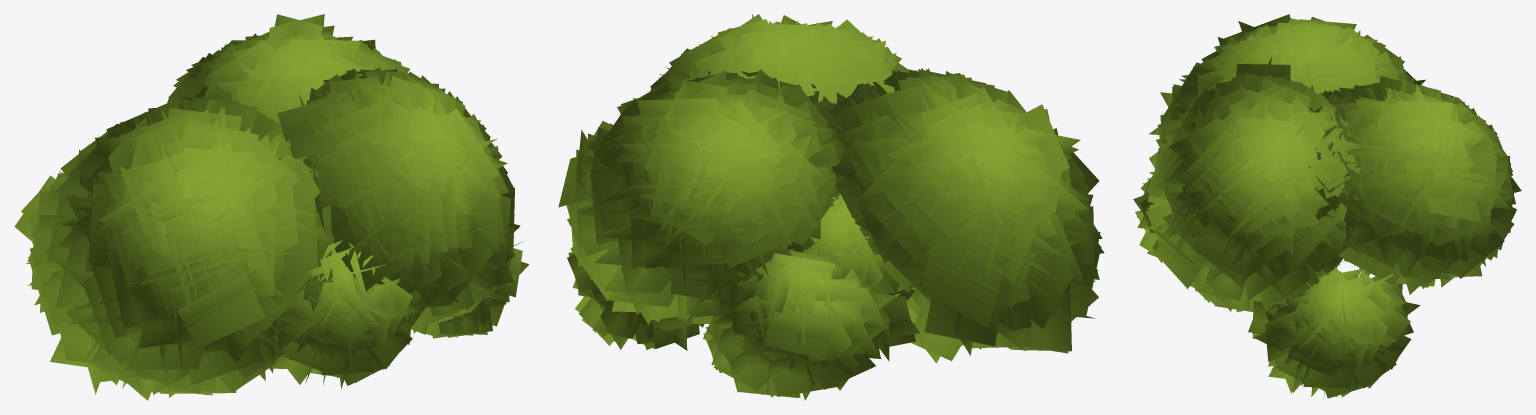
Rendered from SM_bush_02.fbx.
3 renders of one model, left to right at view 1: azimuth 30°, elevation 25°; view 2: azimuth 150°, elevation 25°; view 3: azimuth 270°, elevation 25°, orthographic. The views are drawn at different scales.
Parts seen in each view (by area): view 1: Group63289; view 2: Group63289; view 3: Group63289.
Boxes of the visible parts, <box> form: Group63289: <box>14,14,529,400</box>; Group63289: <box>558,14,1104,400</box>; Group63289: <box>1133,14,1521,398</box>.
Bounding box in the file's own units: 173 × 106 × 144.
